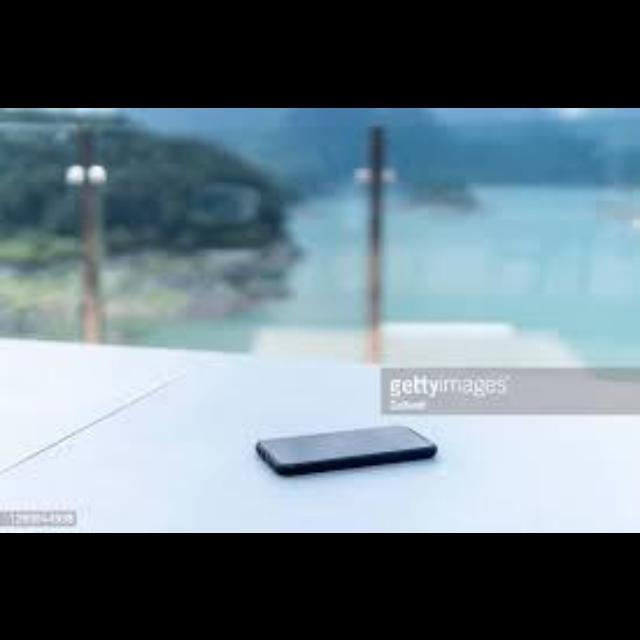PhoneUse: (256, 422, 438, 486)
